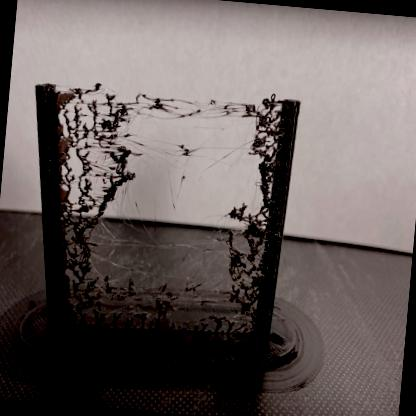fail: (53, 86, 282, 237), (79, 264, 258, 343)
